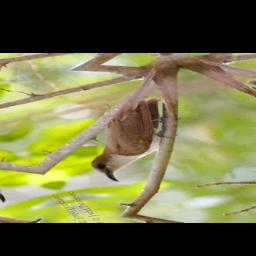Cuckoo: (43, 97, 226, 185)
